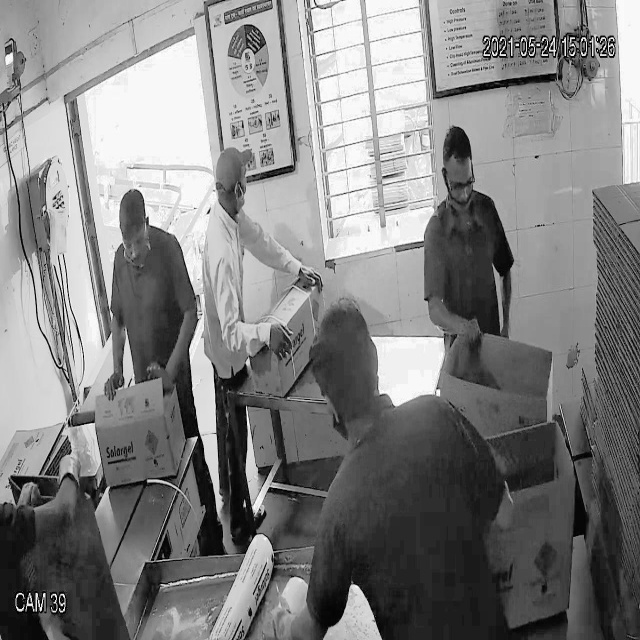Gafas: (442, 162, 477, 200)
